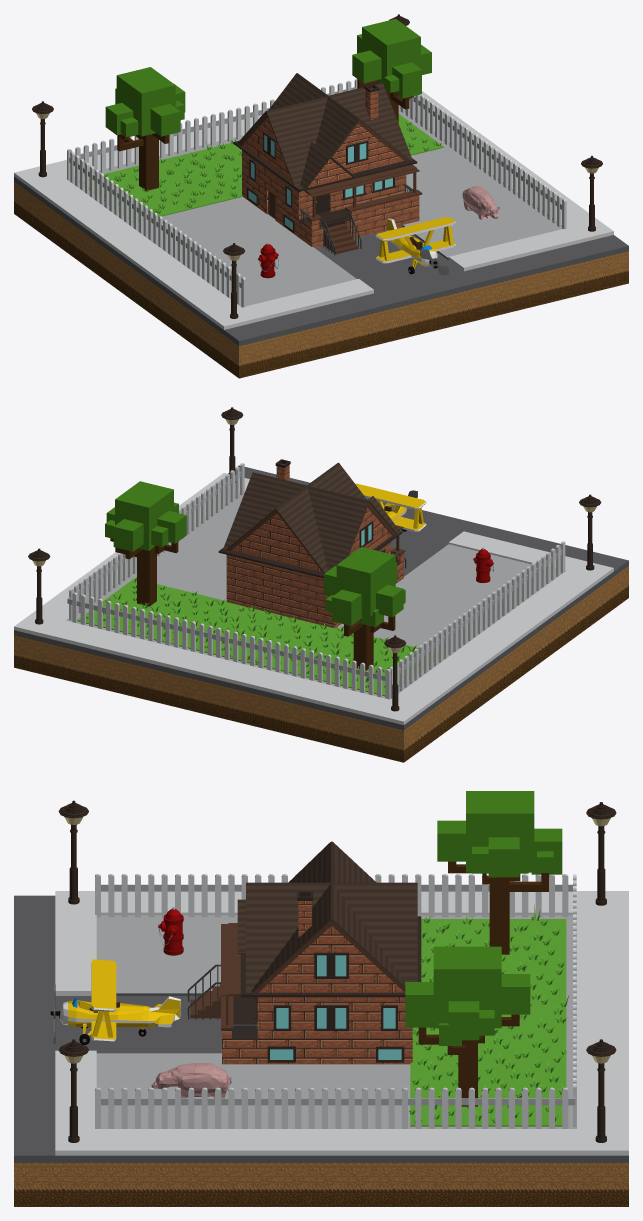
3 renders of one model, top to bottom at view 1: azimuth 30°, elevation 25°; view 2: azimuth 150°, elevation 25°; view 3: azimuth 270°, elevation 25°, orthographic. The views are drawn at different scales.
Parts seen in each view (by area): view 1: Cube.004, Cube.469, VEHICLES_AIRPLANE, ANIMAL_HIPOPOTAMO, OBJRANDOM_FIRE_HYDRANT; view 2: Cube.004, Cube.469, VEHICLES_AIRPLANE, OBJRANDOM_FIRE_HYDRANT; view 3: Cube.004, Cube.469, VEHICLES_AIRPLANE, ANIMAL_HIPOPOTAMO, OBJRANDOM_FIRE_HYDRANT.
Boxes of the visible parts, x1=… form: Cube.004: x1=14, y1=14, x2=628, y2=378; Cube.469: x1=233, y1=73, x2=422, y2=255; VEHICLES_AIRPLANE: x1=375, y1=217, x2=456, y2=275; ANIMAL_HIPOPOTAMO: x1=462, y1=186, x2=499, y2=219; OBJRANDOM_FIRE_HYDRANT: x1=258, y1=243, x2=278, y2=278; Cube.004: x1=14, y1=407, x2=628, y2=762; Cube.469: x1=218, y1=459, x2=406, y2=627; VEHICLES_AIRPLANE: x1=355, y1=483, x2=426, y2=532; OBJRANDOM_FIRE_HYDRANT: x1=473, y1=547, x2=493, y2=582; Cube.004: x1=14, y1=791, x2=628, y2=1206; Cube.469: x1=187, y1=841, x2=421, y2=1064; VEHICLES_AIRPLANE: x1=50, y1=959, x2=180, y2=1044; ANIMAL_HIPOPOTAMO: x1=151, y1=1063, x2=231, y2=1098; OBJRANDOM_FIRE_HYDRANT: x1=158, y1=907, x2=183, y2=955.
Size of the model in its own units: 4000 by 1600 by 4000.
Materials: 35 (4 with a texture image).
